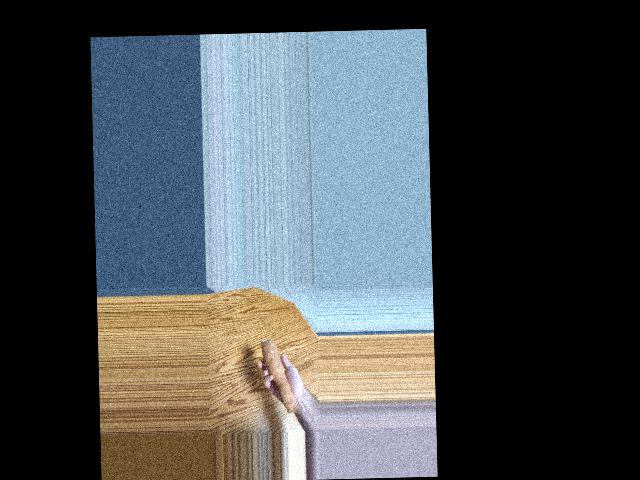sweet_potato: (259, 339, 297, 412)
